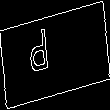P_S: (43, 27, 67, 83)
